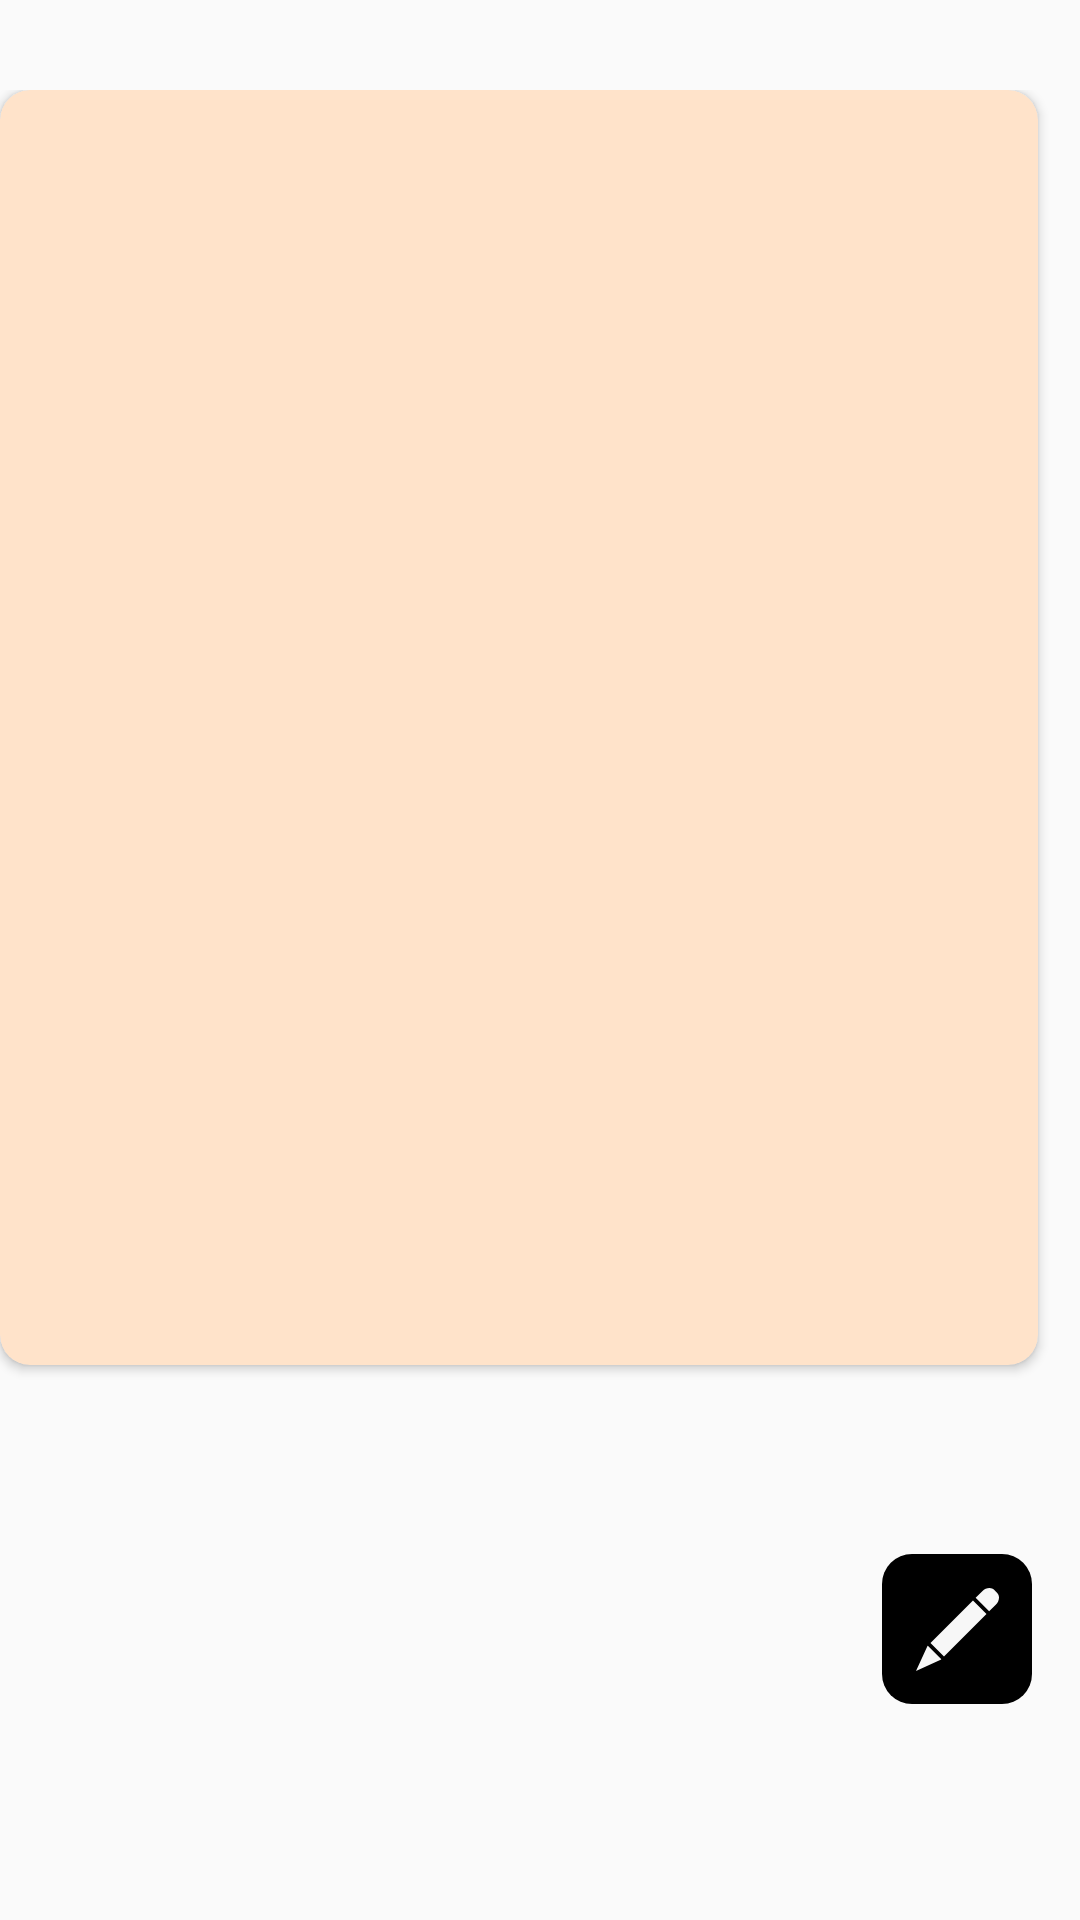

Screen size 1080w x 1920h. Icon name, then its center in pixels as (x,y):
edit: (957,1629)
